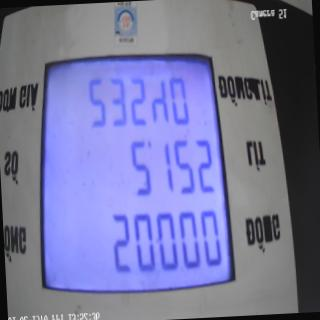screen: (27, 43, 241, 317)
